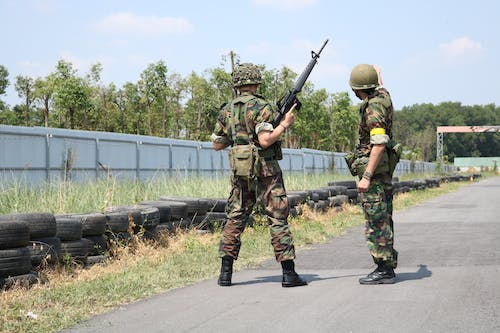gun: (272, 38, 331, 162)
